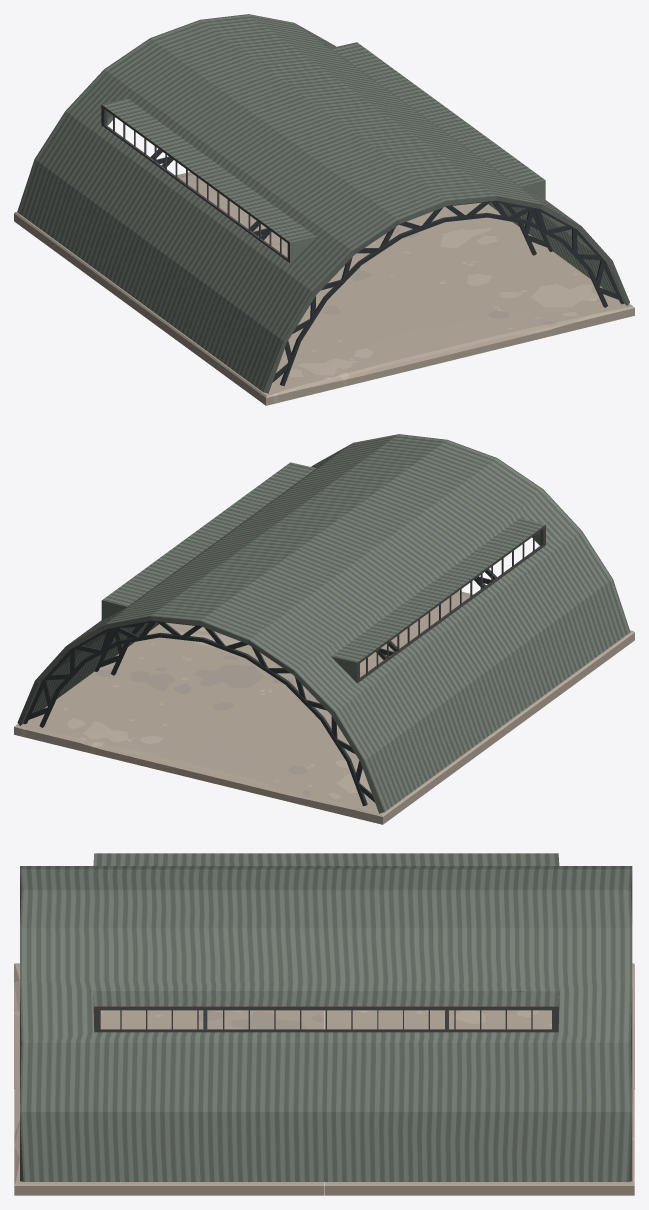
Rendered from SM_Bld_Hangar_Open_01.fbx.
The picture shows the model from 3 angles, top to bottom: view 1: azimuth 30°, elevation 25°; view 2: azimuth 150°, elevation 25°; view 3: azimuth 270°, elevation 25°; orthographic projection. The views are drawn at different scales.
Parts seen in each view (by area): view 1: SM_Bld_Hangar_Open_01; view 2: SM_Bld_Hangar_Open_01; view 3: SM_Bld_Hangar_Open_01.
Part boxes in pixels (box(x1,y1,x2,y2)): SM_Bld_Hangar_Open_01: box(14, 14, 634, 405); SM_Bld_Hangar_Open_01: box(14, 434, 634, 824); SM_Bld_Hangar_Open_01: box(14, 853, 634, 1195).
Size of the model in its own units: 3063 by 1252 by 3626.
